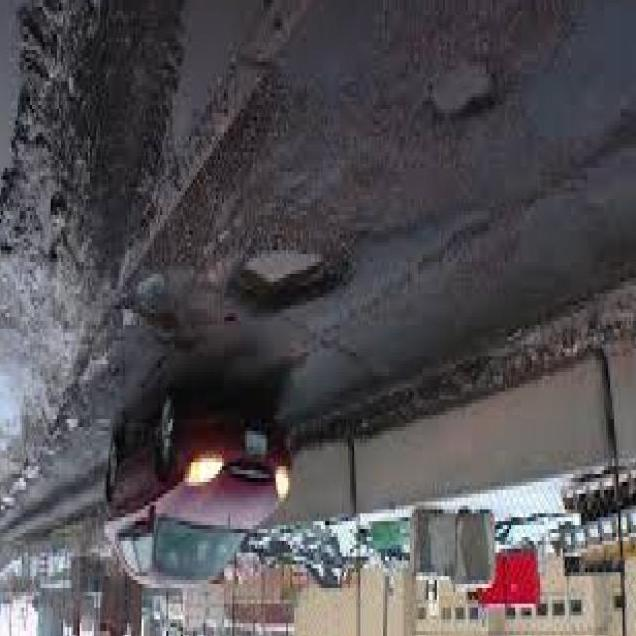pothole: (37, 0, 230, 294), (228, 243, 344, 316), (417, 65, 517, 125)
